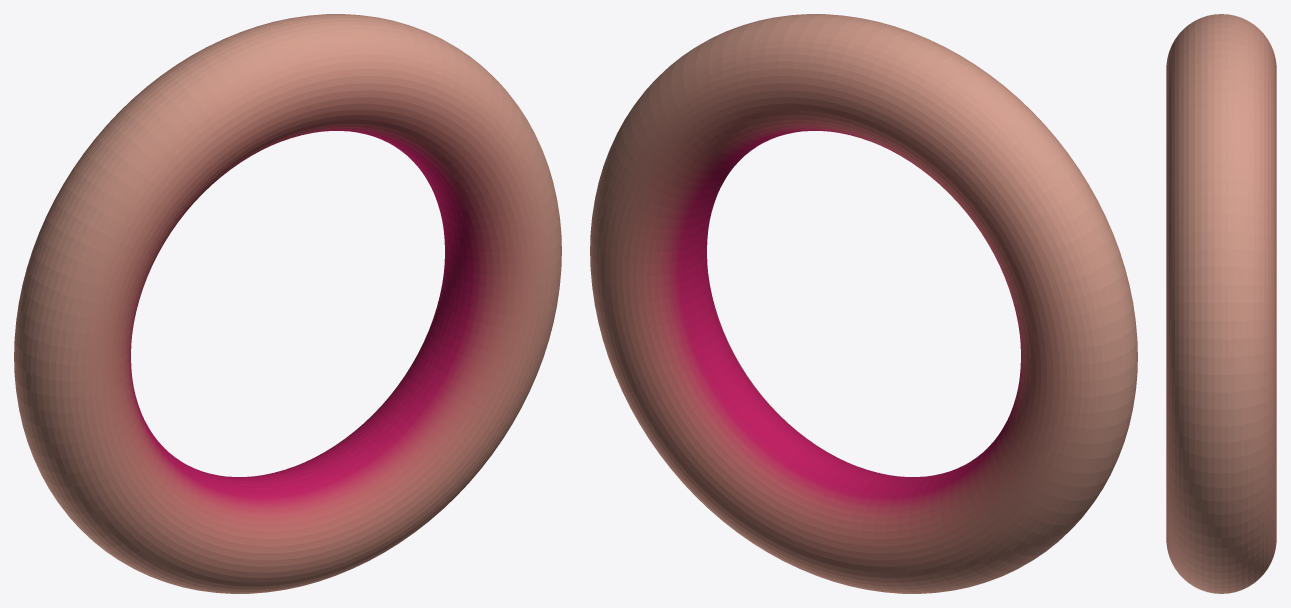
3 renders of one model, left to right at view 1: azimuth 30°, elevation 25°; view 2: azimuth 150°, elevation 25°; view 3: azimuth 270°, elevation 25°, orthographic. The views are drawn at different scales.
Parts seen in each view (by area): view 1: world; view 2: world; view 3: world.
Boxes of the visible parts, x1,y1,x2,y2 form: world: (14, 14, 561, 593); world: (590, 14, 1137, 593); world: (1166, 14, 1276, 593).
Size of the model in its own units: 32.93 by 32.93 by 6.25.
